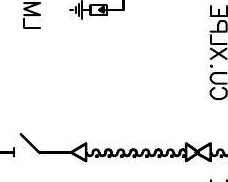terminator_single: (70, 141, 89, 163)
terminator_splicing_kits: (185, 142, 213, 163)
